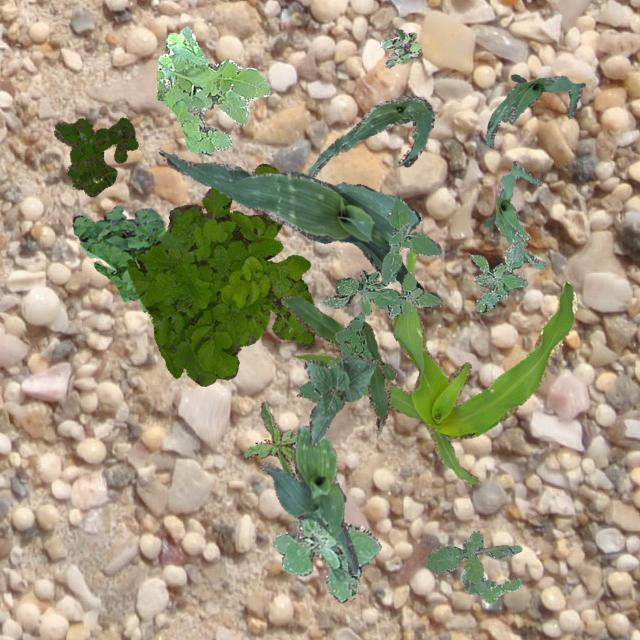crop: (293, 246, 576, 484), (158, 150, 422, 290), (280, 296, 396, 434), (260, 424, 356, 574), (308, 94, 432, 176), (484, 74, 584, 146), (302, 354, 376, 444), (484, 160, 544, 268)
weed: (125, 162, 314, 384), (156, 26, 272, 154), (320, 195, 440, 318), (72, 204, 164, 310), (272, 518, 380, 600), (424, 530, 520, 602), (52, 116, 136, 196), (298, 312, 370, 402), (242, 401, 296, 478), (471, 238, 526, 312), (378, 28, 419, 66)
